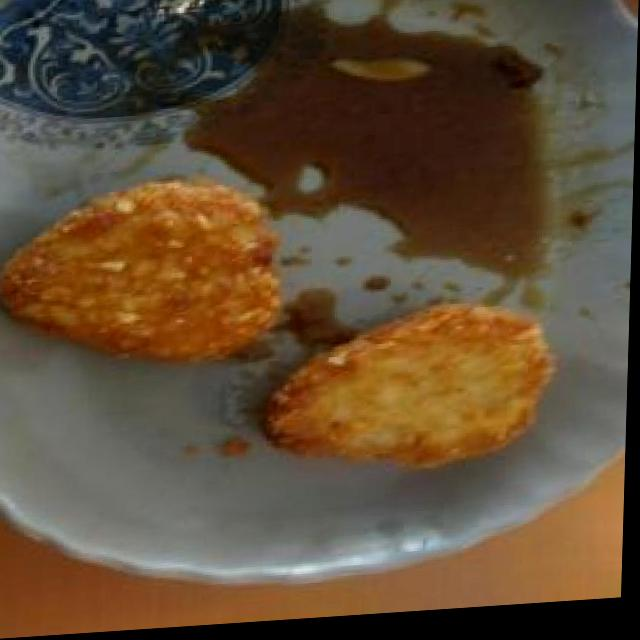triangle_hash_brown: (0, 178, 284, 376), (263, 303, 562, 484)
